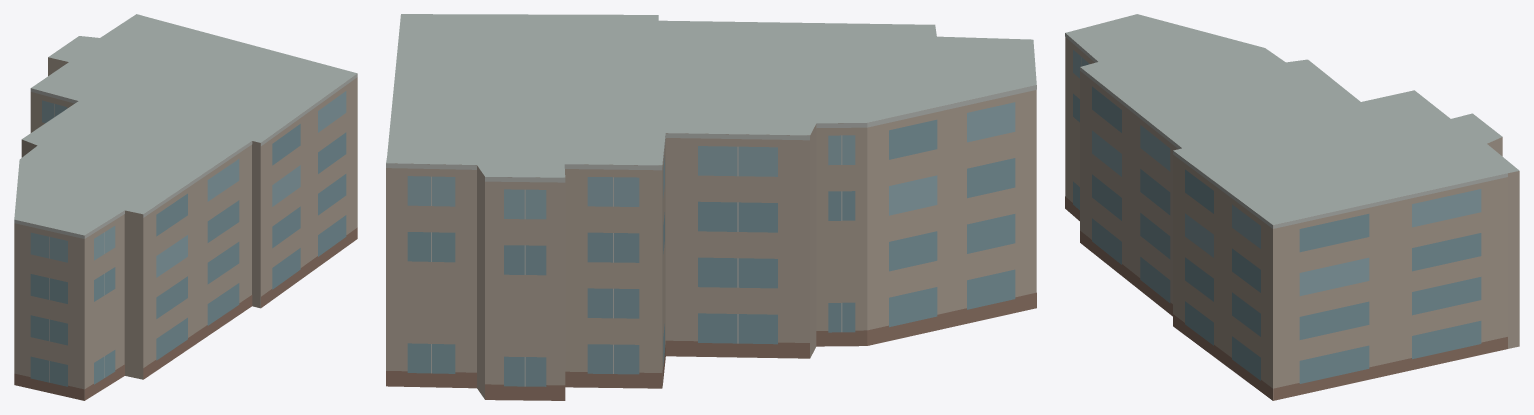
Rendered from survey-upis-32870786.glb.
3 views of the same model, side by side, from view 1: azimuth 30°, elevation 25°; view 2: azimuth 150°, elevation 25°; view 3: azimuth 270°, elevation 25° (orthographic). The views are drawn at different scales.
Visible parts, largest first — view 1: survey-upis-32870786.tmp; view 2: survey-upis-32870786.tmp; view 3: survey-upis-32870786.tmp.
Part boxes in pixels (x1=…): survey-upis-32870786.tmp: x1=14, y1=14, x2=357, y2=400; survey-upis-32870786.tmp: x1=386, y1=14, x2=1036, y2=400; survey-upis-32870786.tmp: x1=1065, y1=14, x2=1519, y2=400.
Size of the model in its own units: 29.14 by 11.3 by 26.5.
